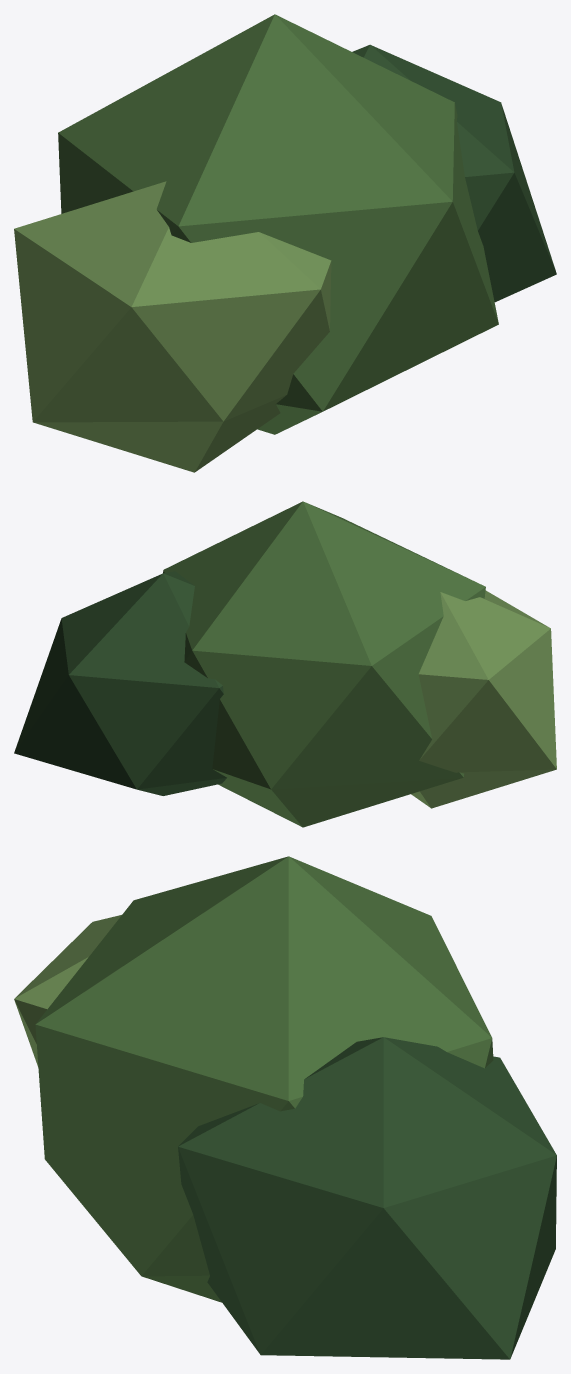
File: bush_01_lod1.glb
3 views of the same model, one above another, from view 1: azimuth 30°, elevation 25°; view 2: azimuth 150°, elevation 25°; view 3: azimuth 270°, elevation 25° (orthographic). The views are drawn at different scales.
Parts seen in each view (by area): view 1: bush_01_lod1; view 2: bush_01_lod1; view 3: bush_01_lod1.
Part boxes in pixels (box(x1,y1,x2,y2)): bush_01_lod1: box(14, 14, 556, 472); bush_01_lod1: box(14, 501, 556, 827); bush_01_lod1: box(14, 856, 556, 1359).
Size of the model in its own units: 1.13 by 0.8171 by 0.8587.
1 material, 1 textured.
